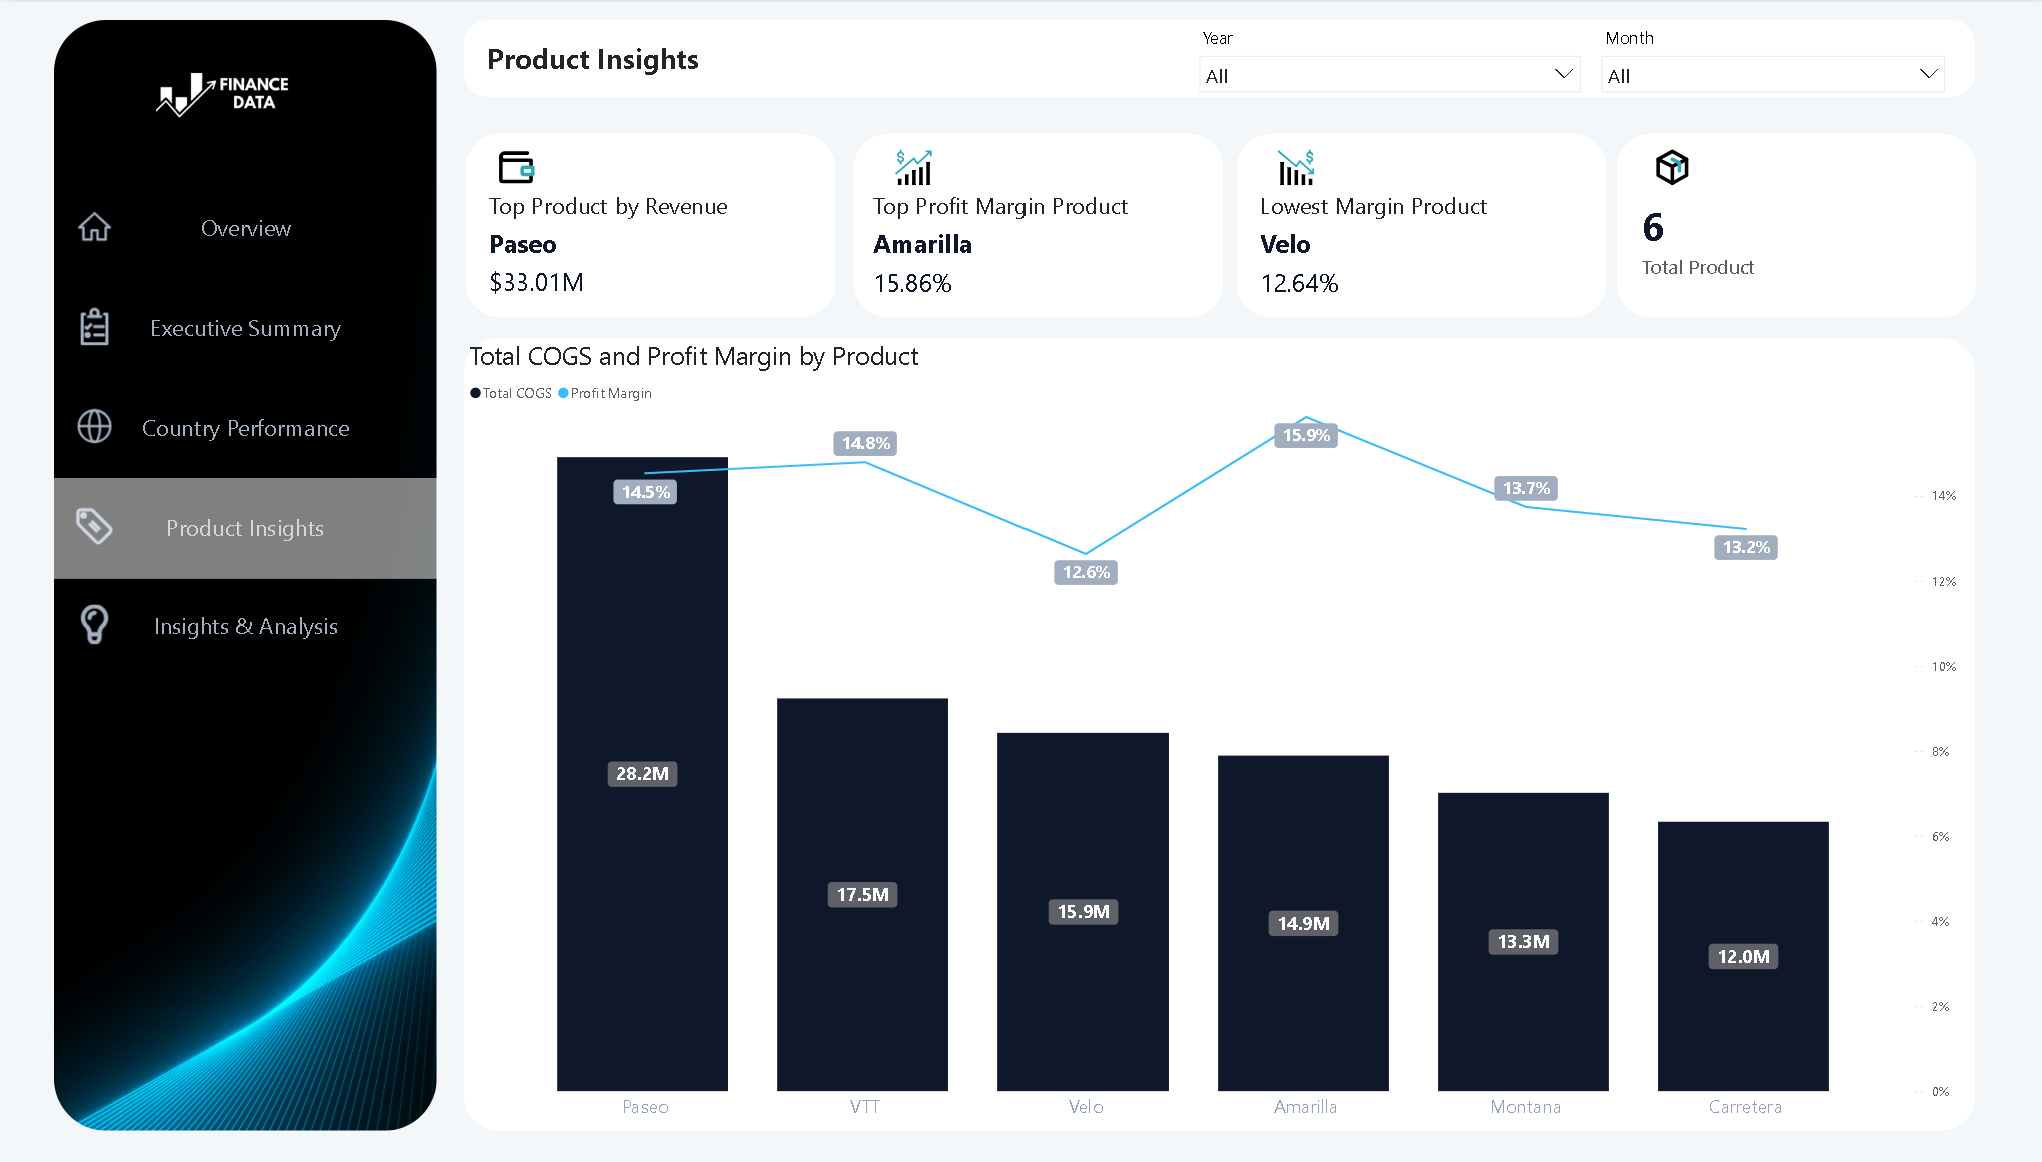

This screenshot's page, from the dashboard's own definition file:
{"tool":"powerbi","page":{"name":"Product Insights","canvas":[1970,1150],"ordinal":3},"visuals":[{"type":"image","box":[52,18,368,1068],"z":0},{"type":"actionButton","box":[52,263.9,369,97],"z":1000},{"type":"actionButton","box":[52,359.1,369,97.2],"z":2000},{"type":"actionButton","box":[51,456,368,97],"z":3000},{"type":"image","box":[0,17.5,420.3,149.8],"z":4000},{"type":"shape","box":[446.4,17,1451.8,74],"z":5000},{"type":"textbox","box":[463.1,31.1,461,59],"z":6000},{"type":"shape","box":[820.5,127.5,354,176],"z":7000},{"type":"shape","box":[448.5,127,355,176],"z":8000},{"type":"slicer","fields":{"Values":["financials.Year"]},"box":[1141.5,17,386.9,74.4],"z":9000},{"type":"slicer","fields":{"Values":["financials.Month Name"]},"box":[1528.4,17,350.7,74.4],"z":10000},{"type":"actionButton","box":[52,167,369,97.2],"z":11000},{"type":"shape","box":[1188.3,127.5,355,176],"z":12000},{"type":"shape","box":[1553.4,127,345.2,176],"z":13000},{"type":"image","box":[844.3,138,67.9,41.2],"z":14000},{"type":"image","box":[1210.6,138.3,67,41],"z":15000},{"type":"image","box":[1572.1,138,67.9,41.2],"z":16000},{"type":"image","box":[463.4,138.2,67,41],"z":17000},{"type":"cardVisual","fields":{"Data":["Basemeasure.Total Product"]},"box":[1568.8,180,325,130],"z":18000},{"type":"shape","box":[446,324,1452,762],"z":19000},{"type":"lineClusteredColumnComboChart","fields":{"Y2":["Basemeasure.Profit Margin"],"Category":["financials.Product"],"Y":["Basemeasure.Total COGS"]},"box":[446,324,1448,762],"z":20000},{"type":"cardVisual","title":"Top Product by Revenue","fields":{"Data":["Basemeasure.Top Revenue Product Name","Basemeasure.Top Revenue Product Value"]},"box":[465.1,181,325,130.4],"z":23000},{"type":"cardVisual","title":"Top Profit Margin Product","fields":{"Data":["Basemeasure.Top Margin Product Name","Basemeasure.Top Margin Product Value"]},"box":[835.2,180,325,130.9],"z":24000},{"type":"cardVisual","title":"Lowest Margin Product","fields":{"Data":["Basemeasure.Lowest Margin Product Name","Basemeasure.Lowest Margin Product Value"]},"box":[1206.2,180.5,325,130.9],"z":25000},{"type":"actionButton","box":[52,550.7,369,97.3],"z":26000},{"type":"shape","title":"Product_Insights_Active_Indicator","box":[52,457.3,369.7,97],"z":27000}]}

Visuals, with their boxes in screenshot pixels (x1, y1, x2, y2), scaled from the page's 1970x1150 canvas onto the 2042x1162 screenshot:
image: region(54, 18, 435, 1097)
actionButton: region(54, 267, 436, 365)
actionButton: region(54, 363, 436, 461)
actionButton: region(53, 461, 434, 559)
image: region(0, 18, 436, 169)
shape: region(463, 17, 1968, 92)
textbox: region(480, 31, 958, 91)
shape: region(850, 129, 1217, 307)
shape: region(465, 128, 833, 306)
slicer - financials.Year: region(1183, 17, 1584, 92)
slicer - financials.Month Name: region(1584, 17, 1948, 92)
actionButton: region(54, 169, 436, 267)
shape: region(1232, 129, 1600, 307)
shape: region(1610, 128, 1968, 306)
image: region(875, 139, 946, 181)
image: region(1255, 140, 1324, 181)
image: region(1630, 139, 1700, 181)
image: region(480, 140, 550, 181)
cardVisual - Basemeasure.Total Product: region(1626, 182, 1963, 313)
shape: region(462, 327, 1967, 1097)
lineClusteredColumnComboChart - Basemeasure.Profit Margin x financials.Product: region(462, 327, 1963, 1097)
"Top Product by Revenue" cardVisual: region(482, 183, 819, 315)
"Top Profit Margin Product" cardVisual: region(866, 182, 1203, 314)
"Lowest Margin Product" cardVisual: region(1250, 182, 1587, 315)
actionButton: region(54, 556, 436, 655)
"Product_Insights_Active_Indicator" shape: region(54, 462, 437, 560)
